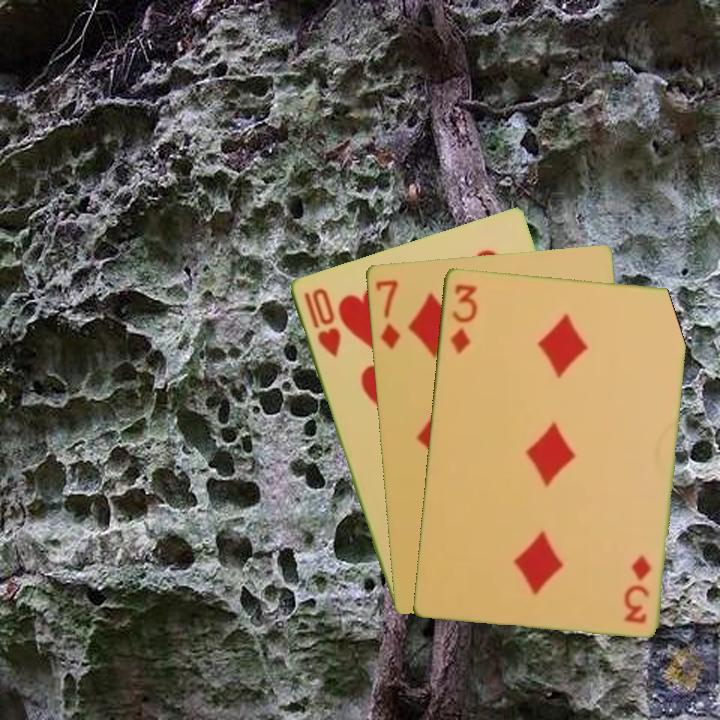10h: (299, 284, 344, 360)
3d: (446, 280, 480, 356), (621, 551, 653, 626)
7d: (371, 275, 403, 352)
